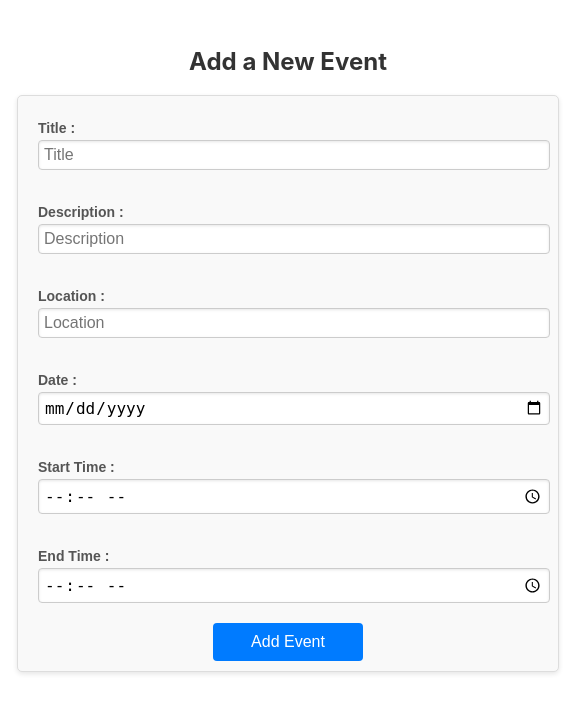
it: EventNewForm › displays an error message if event creation fails
# Fill all required fields again
In the field labelled "Title :": [294, 155] box [38, 140, 550, 170], type "Community Meetup"
In the field labelled "Description :": [294, 239] box [38, 224, 550, 254], type "An event for everyone."
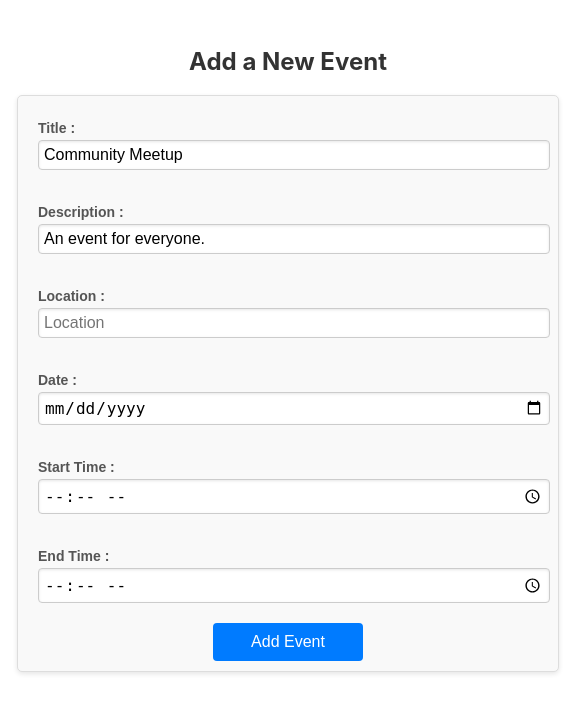
In the field labelled "Location :": [294, 323] box [38, 308, 550, 338], type "City Park"
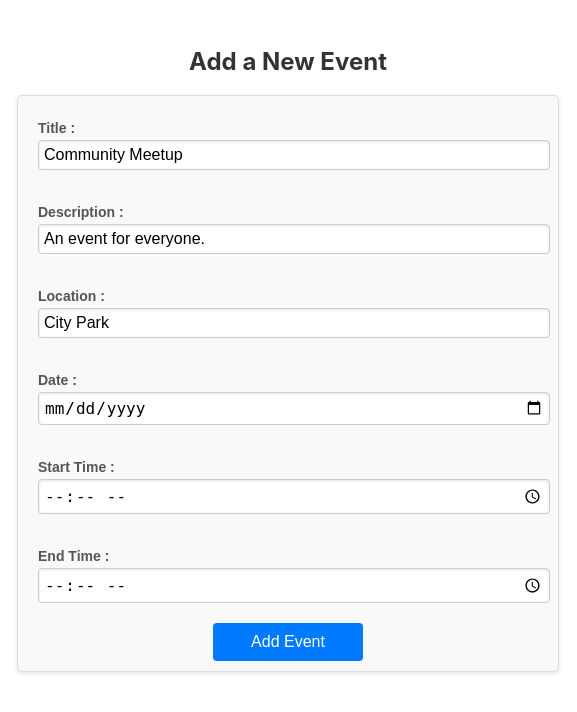
In the date field labelled "Date :": [294, 408] box [38, 392, 550, 425], type "2025-02-20"
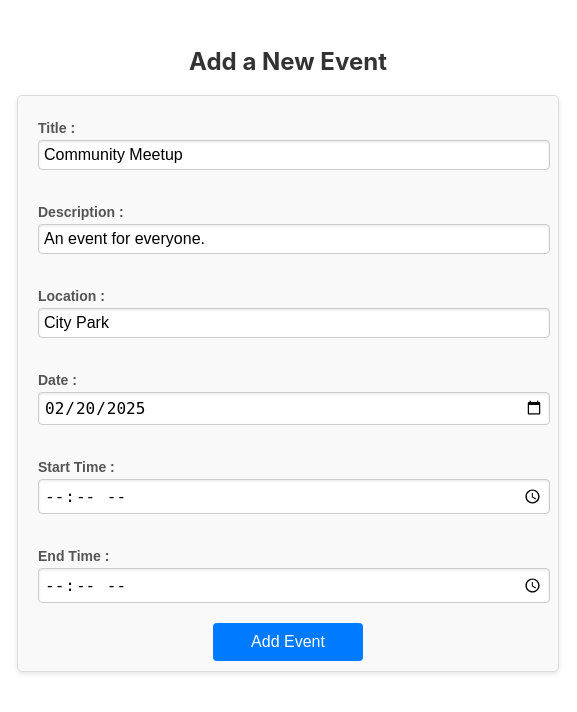
In the time field labelled "Start Time :": [294, 496] box [38, 479, 550, 514], type "10:00"
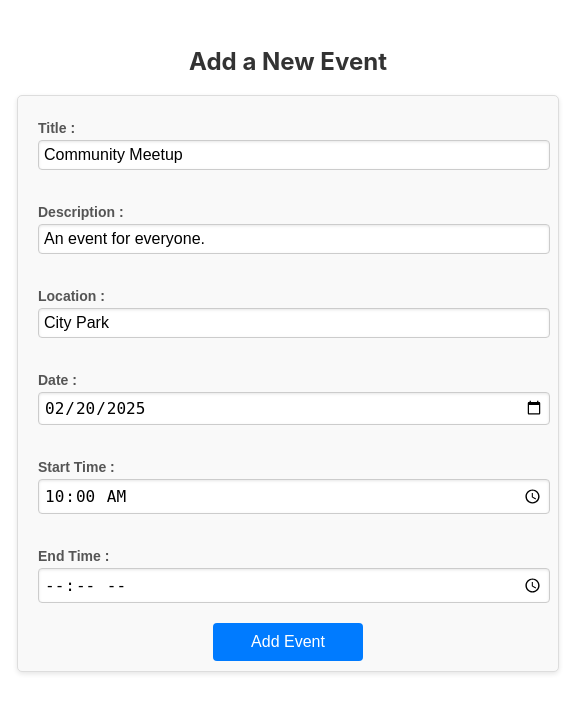
In the time field labelled "End Time :": [294, 585] box [38, 568, 550, 602], type "14:00"
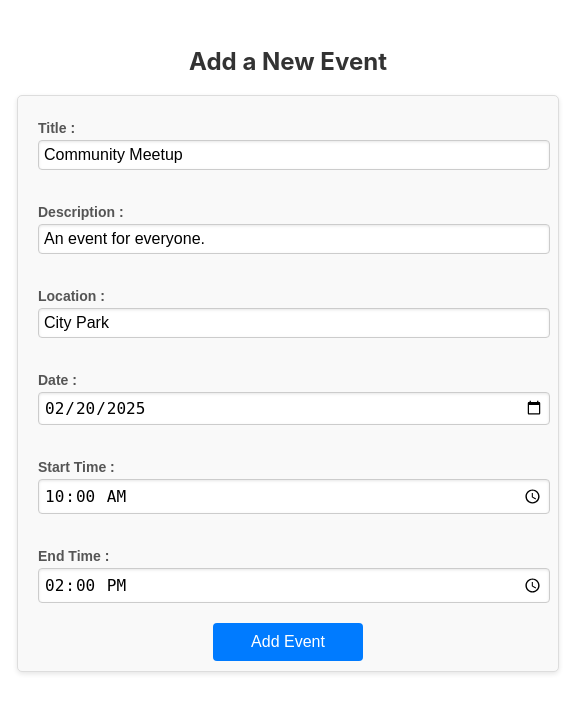
# Submit the form
Click the button "Add Event": [288, 642] box [213, 622, 363, 660]
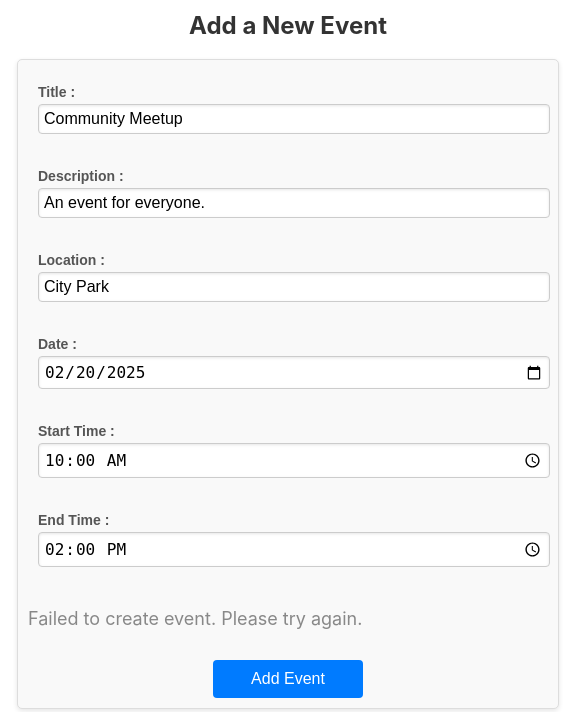
Now the text "Failed to create event. Please try again." is shown, box [28, 608, 362, 629]
